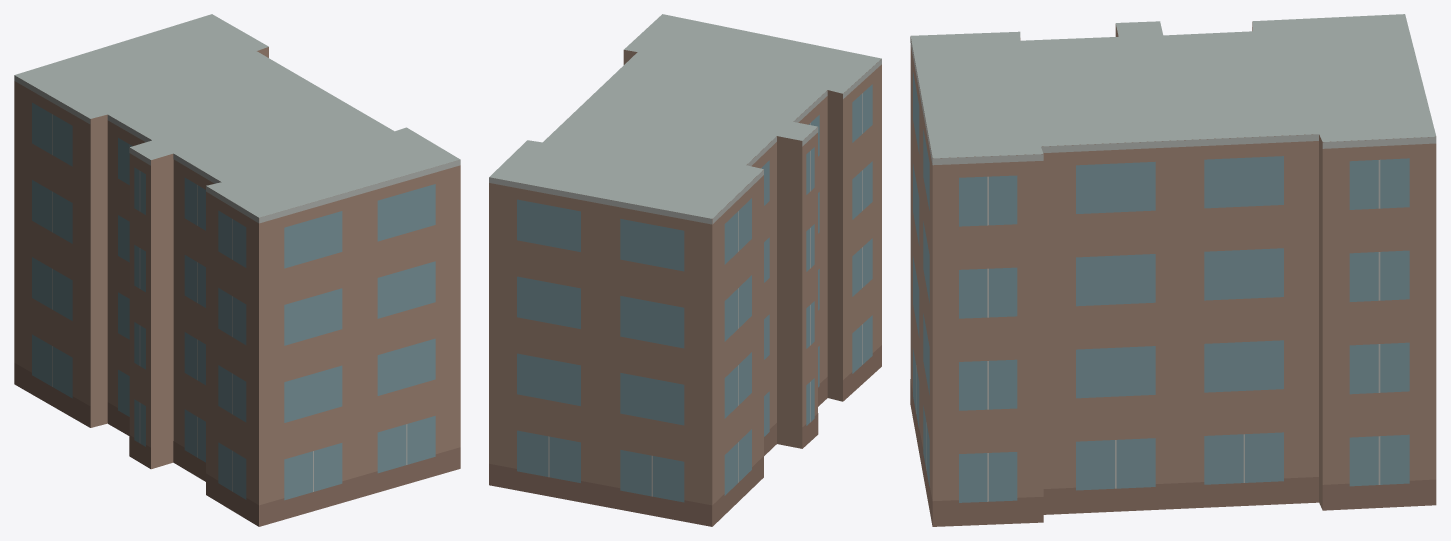
Rendered from survey-upis-33023125.glb.
3 renders of one model, left to right at view 1: azimuth 30°, elevation 25°; view 2: azimuth 150°, elevation 25°; view 3: azimuth 270°, elevation 25°, orthographic. The views are drawn at different scales.
Visible parts, largest first — view 1: survey-upis-33023125.tmp; view 2: survey-upis-33023125.tmp; view 3: survey-upis-33023125.tmp.
Part boxes in pixels (<box>): survey-upis-33023125.tmp: <box>14,14,460,526</box>; survey-upis-33023125.tmp: <box>489,14,881,526</box>; survey-upis-33023125.tmp: <box>910,14,1436,526</box>.
Bounding box in the file's own units: 11.15 × 13.25 × 17.15.
